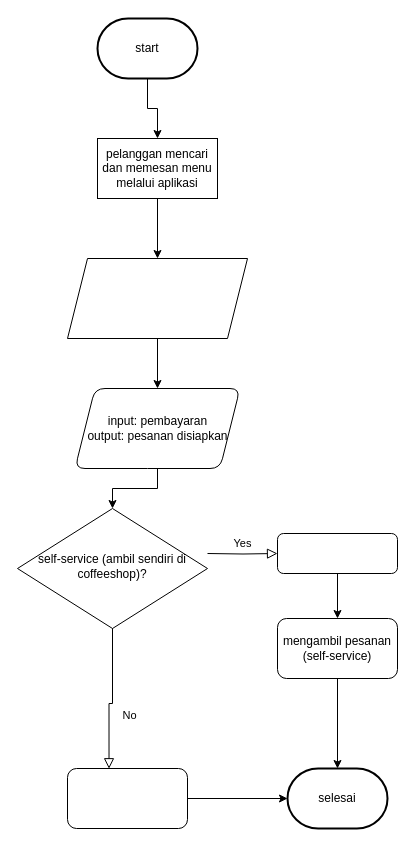
Image size: 415x846. Some labels were removed from this diagram. Here are the shapes that lost their labels. From the top down, the centre of each, then its label:
At point (157, 298): "input: menu yg diinginkan output: total harga".
At point (337, 553): "notifikasi pesanan selesai".
At point (127, 798): "pesanan diantarkan (delivery order)".
